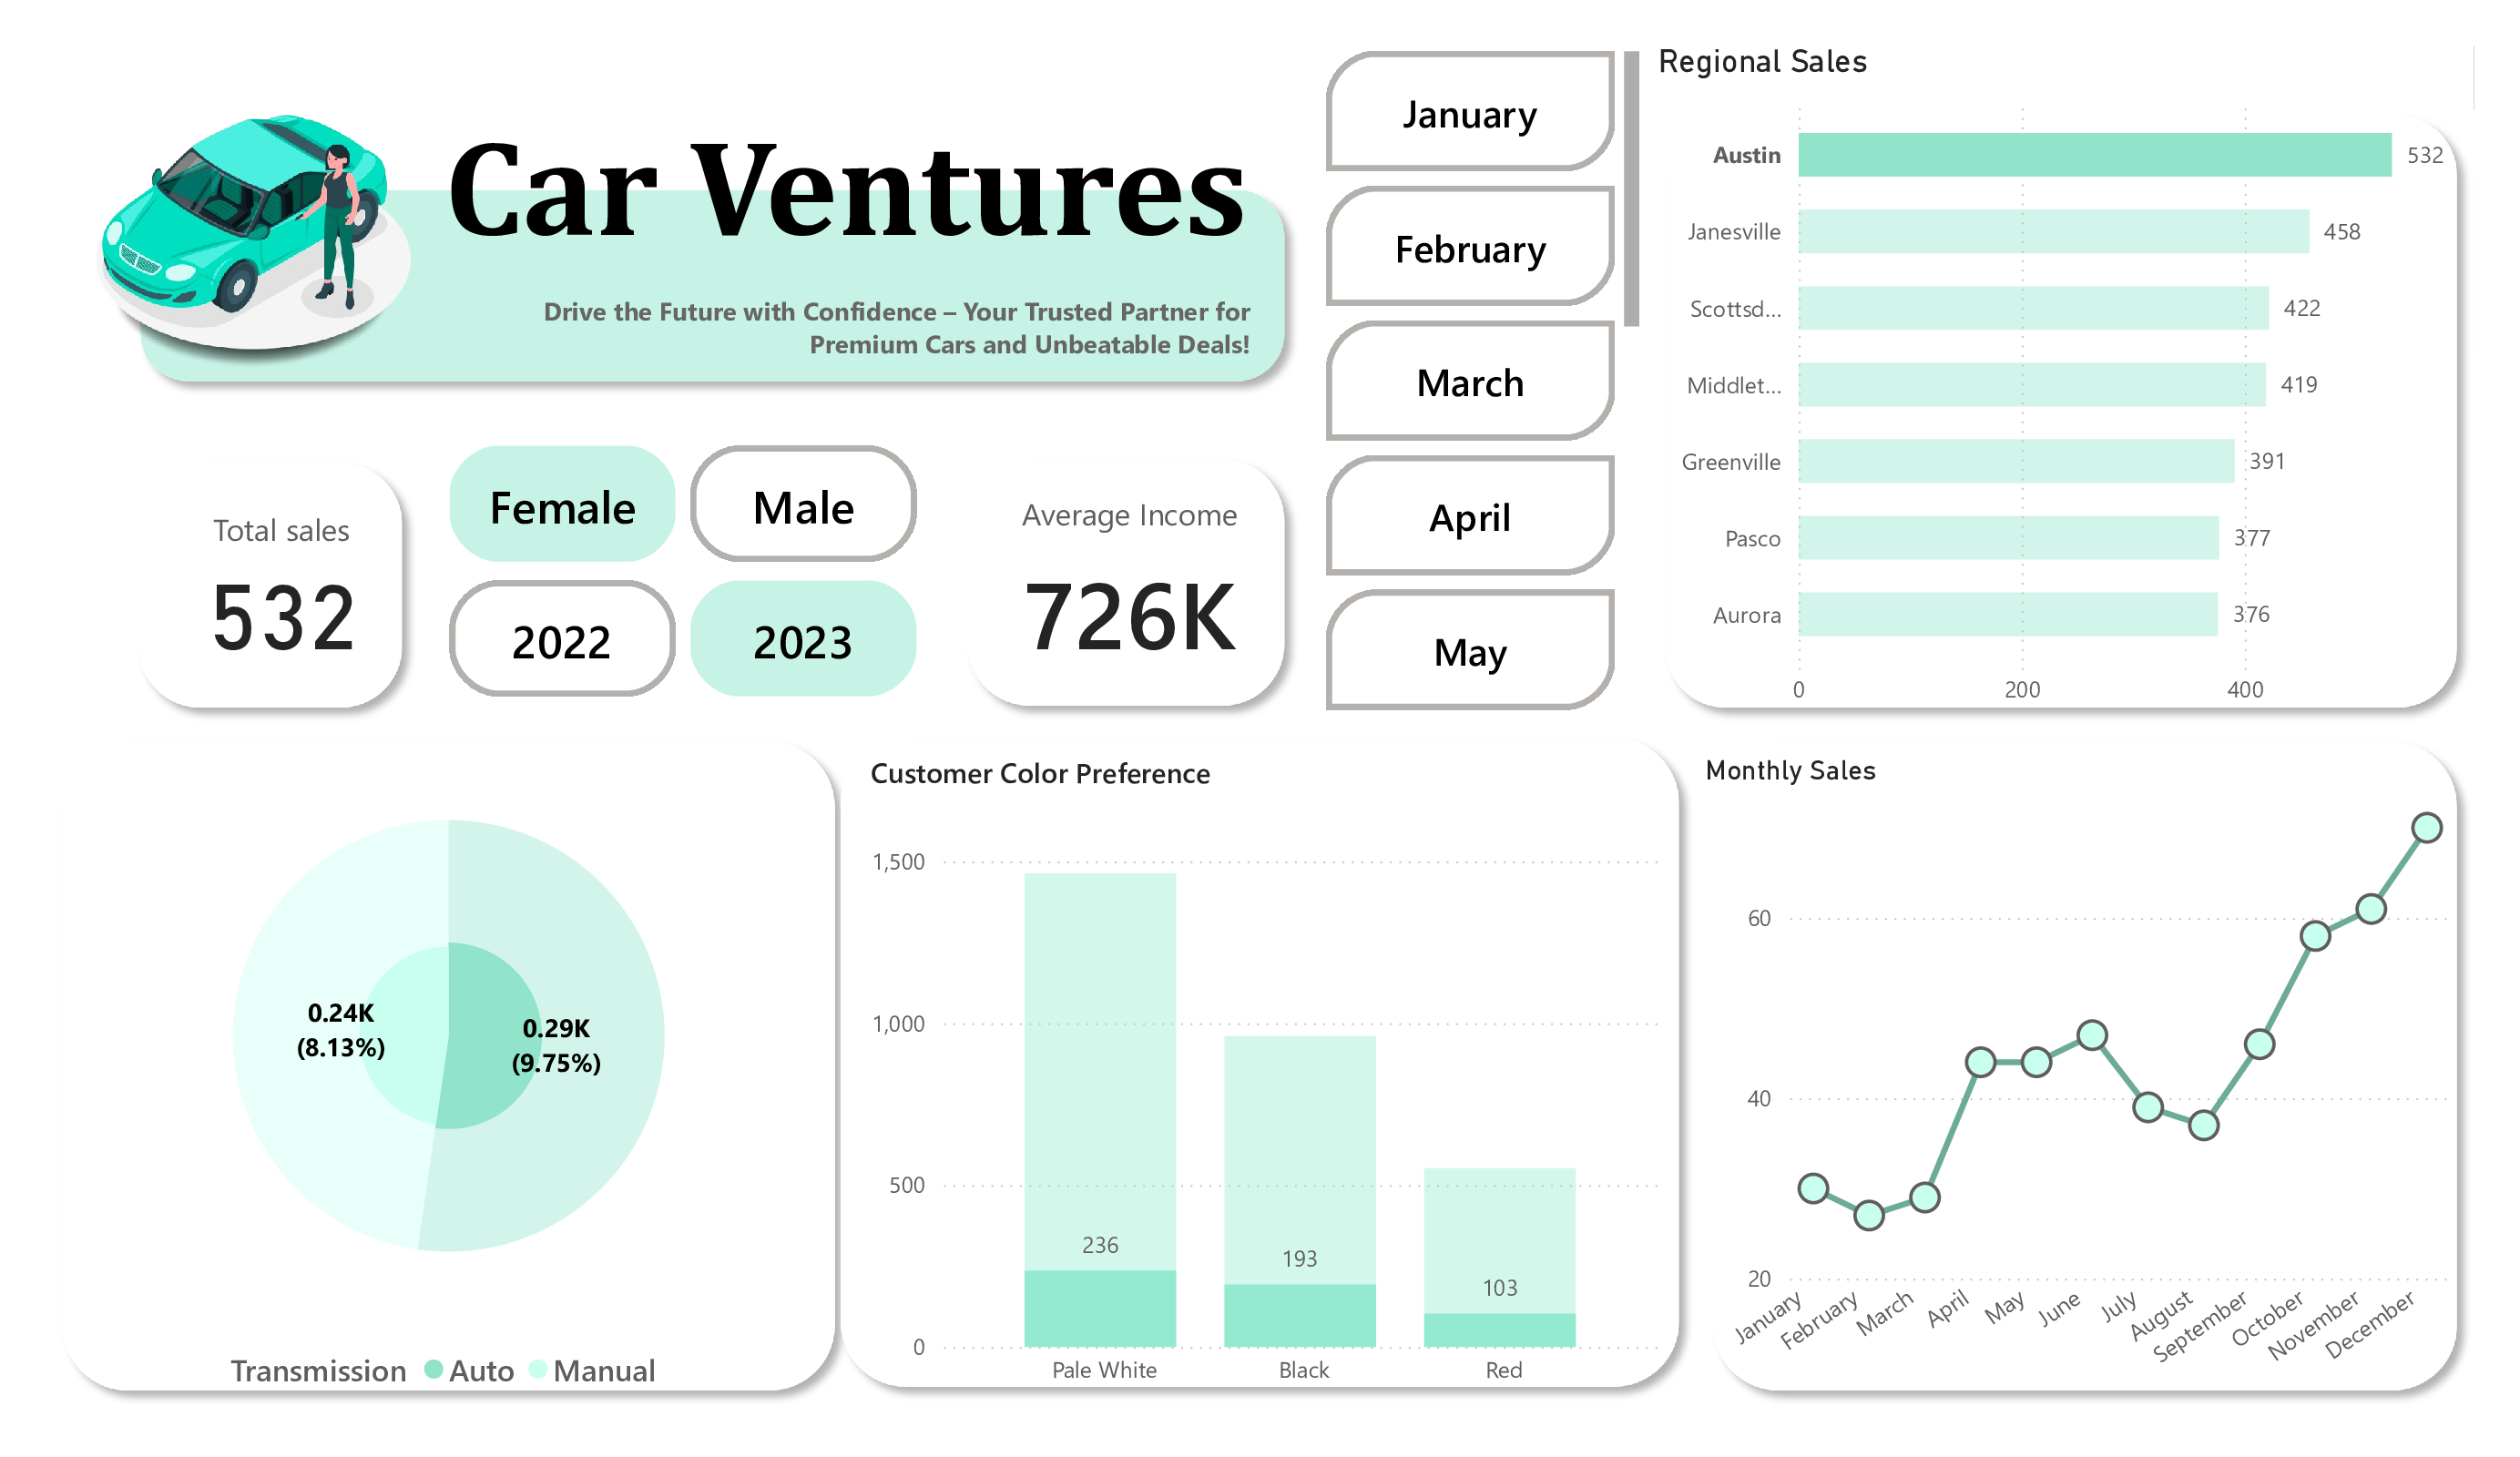

The dashboard page shown, as its layout file describes it:
{"tool":"powerbi","page":{"name":"Dashboard","canvas":[1280,720],"ordinal":0},"visuals":[{"type":"shape","box":[845,28.3,435,330],"z":0,"group":"g4"},{"type":"shape","box":[40.6,67.1,621.6,119],"z":0,"group":"g2"},{"type":"group","id":"g1","title":"Group 1","box":[40,211.6,156.7,146.7],"z":0,"group":"g7"},{"type":"shape","box":[40,211.6,156.7,146.7],"z":0,"group":"g1"},{"type":"shape","box":[410,356.6,460,360],"z":0,"group":"g6"},{"type":"shape","box":[0,358.3,425,360],"z":500,"group":"g5"},{"type":"image","box":[0,-1.7,217.7,187.3],"z":1000,"group":"g2"},{"type":"shape","box":[476.7,208.9,185,148.3],"z":1000,"group":"g7"},{"type":"cardVisual","title":"Tita","fields":{"Data":["CountNonNull(Car_Dataset.Purchase_id)"]},"box":[52.9,224.2,143.2,124.4],"z":1000,"group":"g1"},{"type":"clusteredColumnChart","title":"Customer Color Preference","fields":{"Category":["Car_Dataset.Color"],"Y":["CountNonNull(Car_Dataset.Purchase_id)"]},"box":[430,373.3,428.3,343.3],"z":1000,"group":"g6"},{"type":"group","id":"g2","title":"Group 2","box":[0,-1.7,662.2,187.8],"z":2000,"group":"g7"},{"type":"advancedSlicerVisual","fields":{"Values":["Car_Dataset.Gender"]},"box":[208.3,206.6,256.7,71],"z":2000,"group":"g3"},{"type":"advancedSlicerVisual","fields":{"Values":["Car_Dataset.Month"]},"box":[670,-1.7,175,360],"z":3000,"group":"g7"},{"type":"textbox","box":[193.1,27.6,458.3,105.4],"z":3000,"group":"g2"},{"type":"advancedSlicerVisual","fields":{"Values":["Car_Dataset.Date.Variation.Date Hierarchy.Year"]},"box":[208.3,277.6,256.7,71],"z":3001,"group":"g3"},{"type":"textbox","box":[230.5,126.2,409.6,53.9],"z":4000,"group":"g2"},{"type":"cardVisual","title":"Tita","fields":{"Data":["Avg(Car_Dataset.Annual Income)"]},"box":[490,218.3,163.3,130],"z":4000,"group":"g7"},{"type":"group","id":"g3","title":"Group 3","box":[208.3,206.6,256.7,141.7],"z":5000,"group":"g7"},{"type":"group","id":"g4","title":"Group 4","box":[845,-1.7,435,360],"z":6000,"group":"g7"},{"type":"clusteredBarChart","title":"Regional Sales","fields":{"Category":["Car_Dataset.Dealer_Region"],"Y":["CountNonNull(Car_Dataset.Dealer_Name)"]},"box":[845,-1.7,435,360],"z":7000,"group":"g4"},{"type":"group","id":"g5","title":"Group 5","box":[0,358.3,425,360],"z":7000,"group":"g7"},{"type":"pieChart","fields":{"Category":["Car_Dataset.Transmission"],"Y":["CountNonNull(Car_Dataset.Purchase_id)"]},"box":[0,358.3,425,360],"z":7000,"group":"g5"},{"type":"shape","box":[870,358.3,410,360],"z":8000,"group":"g7"},{"type":"group","id":"g6","title":"Group 6","box":[410,356.6,460,360],"z":9000,"group":"g7"},{"type":"group","id":"g7","title":"Group 7","box":[0,-1.7,1280.5,720.6],"z":9007},{"type":"lineChart","title":"Monthly Sales","fields":{"Category":["Car_Dataset.Date.Variation.Date Hierarchy.Month"],"Y":["CountNonNull(Car_Dataset.Purchase_id)"]},"box":[870,374.3,402,344],"z":10000,"group":"g7"}]}

Visuals, with their boxes on the page's 1280x720 design canvas (x1, y1, x2, y2). These are canvas units, not pixel positions in the 2520x1457 screenshot, which may show the page scaled, cropped or inside an application window:
shape: bbox(845, 28, 1280, 358)
shape: bbox(41, 67, 662, 186)
"Group 1" group: bbox(40, 212, 197, 358)
shape: bbox(40, 212, 197, 358)
shape: bbox(410, 357, 870, 717)
shape: bbox(0, 358, 425, 718)
image: bbox(0, -2, 218, 186)
shape: bbox(477, 209, 662, 357)
"Tita" cardVisual: bbox(53, 224, 196, 349)
"Customer Color Preference" clusteredColumnChart: bbox(430, 373, 858, 717)
"Group 2" group: bbox(0, -2, 662, 186)
advancedSlicerVisual - Car_Dataset.Gender: bbox(208, 207, 465, 278)
advancedSlicerVisual - Car_Dataset.Month: bbox(670, -2, 845, 358)
textbox: bbox(193, 28, 651, 133)
advancedSlicerVisual - Car_Dataset.Date.Variation.Date Hierarchy.Year: bbox(208, 278, 465, 349)
textbox: bbox(230, 126, 640, 180)
"Tita" cardVisual: bbox(490, 218, 653, 348)
"Group 3" group: bbox(208, 207, 465, 348)
"Group 4" group: bbox(845, -2, 1280, 358)
"Regional Sales" clusteredBarChart: bbox(845, -2, 1280, 358)
"Group 5" group: bbox(0, 358, 425, 718)
pieChart - Car_Dataset.Transmission x CountNonNull(Car_Dataset.Purchase_id): bbox(0, 358, 425, 718)
shape: bbox(870, 358, 1280, 718)
"Group 6" group: bbox(410, 357, 870, 717)
"Group 7" group: bbox(0, -2, 1280, 719)
"Monthly Sales" lineChart: bbox(870, 374, 1272, 718)
